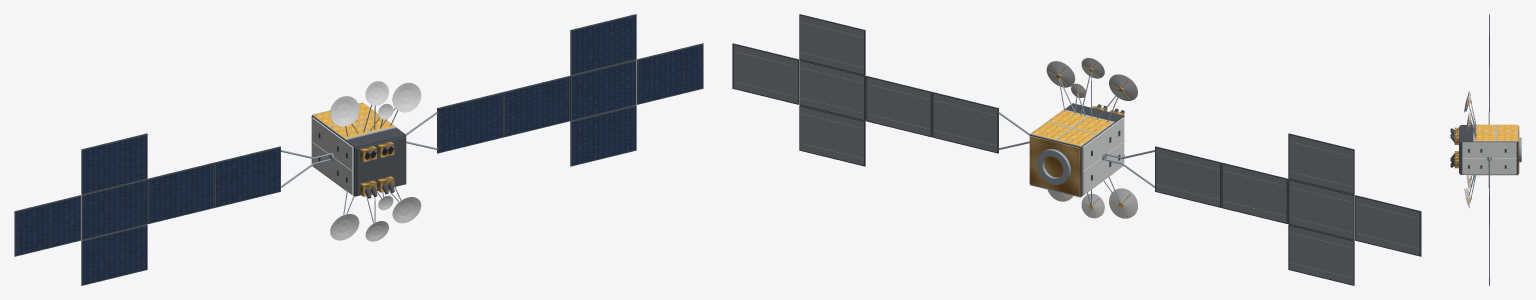
The model's file is ses-17.glb.
The picture shows the model from 3 angles, left to right: view 1: azimuth 30°, elevation 25°; view 2: azimuth 150°, elevation 25°; view 3: azimuth 270°, elevation 25°; orthographic projection. The views are drawn at different scales.
Visible parts, largest first — view 1: Solar cell panel (×12), Ka-band reflector (×5), Payload radiator panel (×2), Earth-facing equipment deck, Solar panel frame (×2), Service and payload structure; view 2: Rear array substrate (×12), Ka-band reflector (×4), Payload radiator panel (×2), Service module insulation, Solar panel frame (×2), Service and payload structure, Launch adapter ring, Thermal blanket surround; view 3: Payload radiator panel (×2), Thermal blanket panel (×4), Service and payload structure, Thermal blanket surround, Feed mounting block (×2), Earth-facing equipment deck, Service module insulation, Launch adapter ring.
Boxes of the visible parts, <box> form: Solar cell panel (×12): <box>16,15,702,284</box>; Ka-band reflector (×5): <box>330,81,421,240</box>; Payload radiator panel (×2): <box>311,117,353,195</box>; Earth-facing equipment deck: <box>356,136,405,195</box>; Solar panel frame (×2): <box>147,76,570,223</box>; Service and payload structure: <box>311,116,406,196</box>; Rear array substrate (×12): <box>733,15,1419,284</box>; Ka-band reflector (×4): <box>1046,61,1137,218</box>; Payload radiator panel (×2): <box>1082,117,1124,195</box>; Service module insulation: <box>1029,136,1080,196</box>; Solar panel frame (×2): <box>865,76,1288,223</box>; Service and payload structure: <box>1029,103,1124,196</box>; Launch adapter ring: <box>1036,149,1070,184</box>; Thermal blanket surround: <box>1030,109,1114,147</box>; Payload radiator panel (×2): <box>1462,142,1516,174</box>; Thermal blanket panel (×4): <box>1474,124,1517,140</box>; Service and payload structure: <box>1460,125,1518,174</box>; Thermal blanket surround: <box>1473,124,1518,141</box>; Feed mounting block (×2): <box>1454,133,1458,168</box>; Earth-facing equipment deck: <box>1459,126,1460,173</box>; Service module insulation: <box>1518,126,1519,173</box>; Launch adapter ring: <box>1519,137,1521,162</box>.
Bounding box in the file's own units: 46 × 10.19 × 6.17.
Materials: 9 (2 with a texture image).
